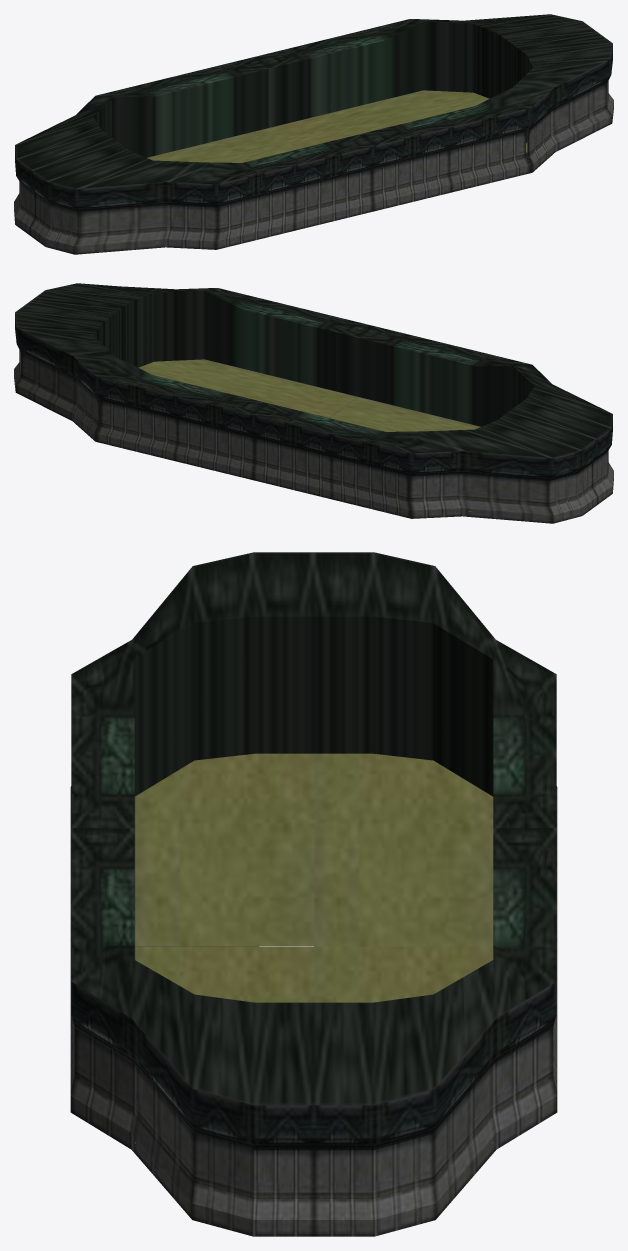
The model's file is tree_pot.fbx.
3 views of the same model, one above another, from view 1: azimuth 30°, elevation 25°; view 2: azimuth 150°, elevation 25°; view 3: azimuth 270°, elevation 25° (orthographic). The views are drawn at different scales.
Parts seen in each view (by area): view 1: Cube, Plane; view 2: Cube, Plane; view 3: Cube, Plane.
Boxes of the visible parts, x1,y1,x2,y2 form: Cube: (14,14,613,254); Plane: (147,90,559,242); Cube: (14,283,613,523); Plane: (68,359,480,511); Cube: (70,552,557,1236); Plane: (134,753,493,1143).
Bounding box in the file's own units: 549 × 68.87 × 204.
2 materials, 2 textured.
